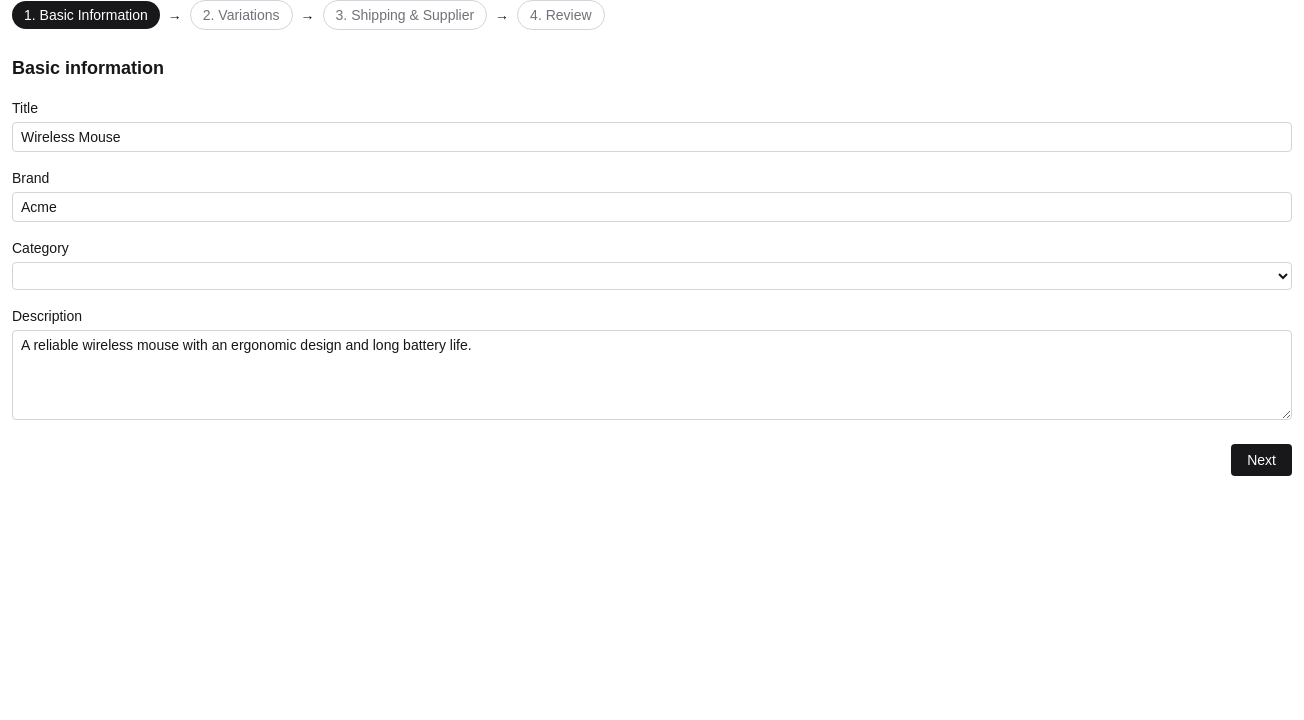
draft persistence (watch -> Redux -> localStorage) › restores a persisted draft (Step 1, Step 2, and Step 3 fields) on the next mount
Check: the field labelled "Title" holds "Wireless Mouse", box [12,122,1292,152]
Click the button "Next" at [1262, 460], box [1231,444,1292,476]
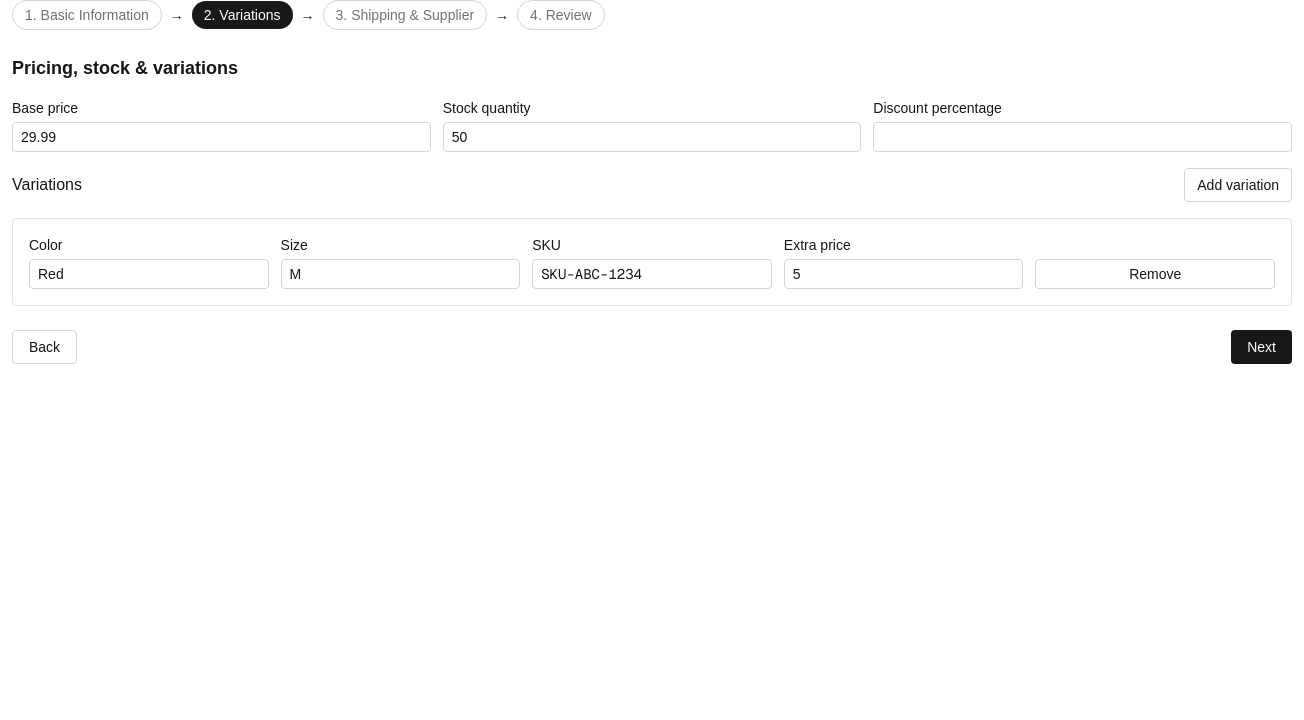
Check: the heading "Pricing, stock & variations" is shown, box [12,58,238,78]
Check: the number field labelled "Base price" holds "29.99", box [12,122,431,152]
Check: the number field labelled "Stock quantity" holds "50", box [443,122,861,152]
Click the button "Next" at [1262, 347], box [1231,330,1292,364]
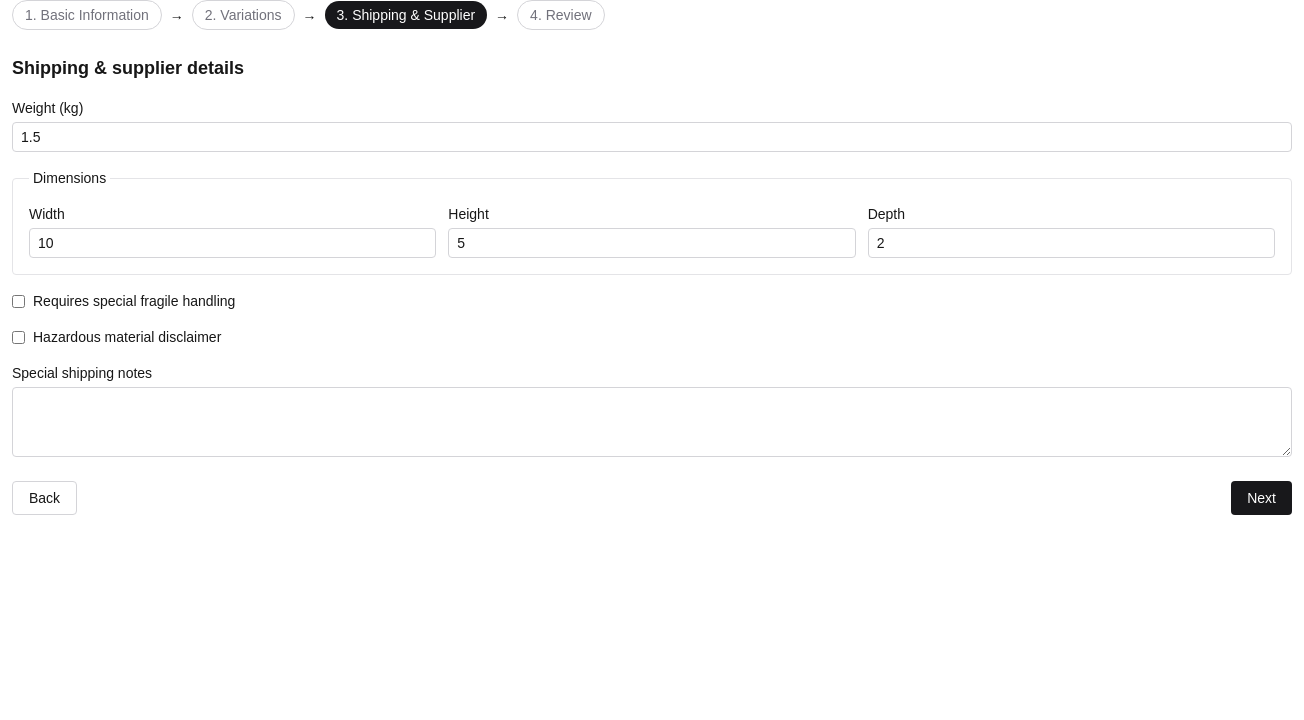
Check: the heading "Shipping & supplier details" is shown, box [12,58,244,78]
Check: the number field labelled "Weight (kg)" holds "1.5", box [12,122,1292,152]
Check: the number field labelled "Width" holds "10", box [29,228,436,258]
